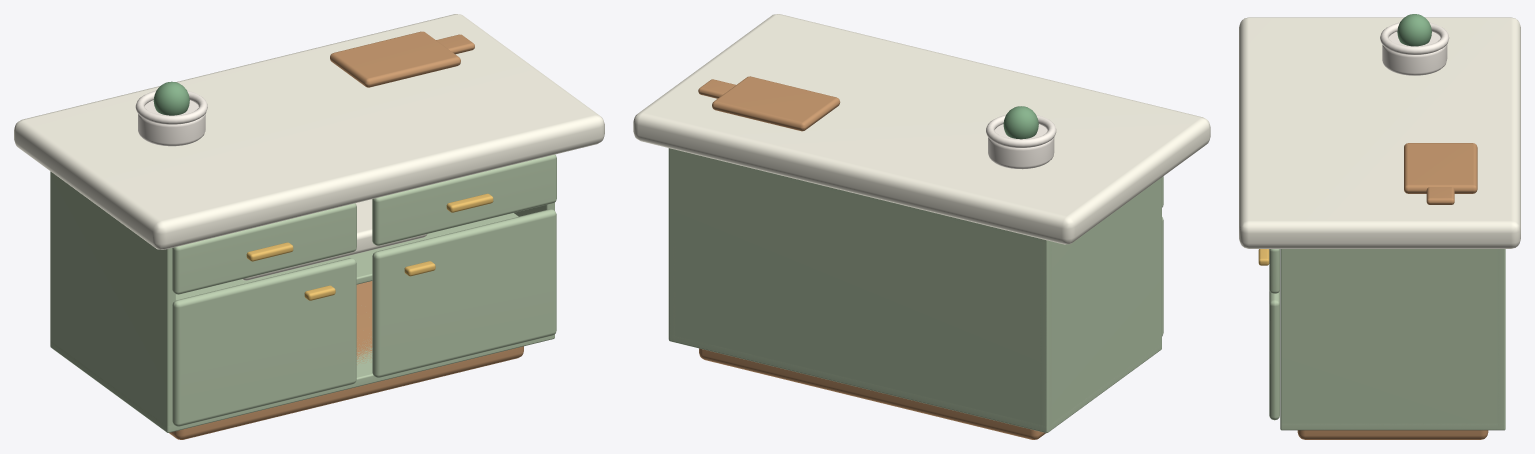
The model's file is kitchenIsland.glb.
3 renders of one model, left to right at view 1: azimuth 30°, elevation 25°; view 2: azimuth 150°, elevation 25°; view 3: azimuth 270°, elevation 25°, orthographic. The views are drawn at different scales.
Parts seen in each view (by area): view 1: Thick stone worktop, Island cupboard door.001, Island cupboard door, Storage inner side, Island drawer.001, Island drawer, Island recessed plinth, Chopping board, Storage inner floor, Storage interior shelf, Cream countertop bowl, Stored folded linen (+2 smaller); view 2: Storage inner back, Thick stone worktop, Storage inner side, Chopping board, Island recessed plinth, Storage inner floor, Cream countertop bowl, Bowl rim, Green apple; view 3: Thick stone worktop, Storage inner side.001, Chopping board, Island recessed plinth, Cream countertop bowl, Storage inner floor, Storage inner back, Island cupboard door.001, Bowl rim, Green apple, Board handle, Island drawer.001.
Boxes of the visible parts, left/top/right/bottom form: Thick stone worktop: left=14, top=14, right=604, bottom=249; Island cupboard door.001: left=372, top=209, right=556, bottom=377; Island cupboard door: left=172, top=258, right=356, bottom=426; Storage inner side: left=50, top=171, right=175, bottom=432; Island drawer.001: left=372, top=154, right=556, bottom=245; Island drawer: left=172, top=203, right=356, bottom=294; Island recessed plinth: left=169, top=281, right=523, bottom=439; Chopping board: left=330, top=31, right=460, bottom=87; Storage inner floor: left=50, top=334, right=554, bottom=432; Storage interior shelf: left=175, top=213, right=518, bottom=300; Cream countertop bowl: left=138, top=100, right=205, bottom=146; Stored folded linen: left=242, top=199, right=427, bottom=280; Storage inner back: left=669, top=148, right=1051, bottom=432; Thick stone worktop: left=633, top=14, right=1210, bottom=244; Storage inner side: left=1040, top=177, right=1161, bottom=432; Chopping board: left=712, top=76, right=840, bottom=131; Island recessed plinth: left=699, top=348, right=1045, bottom=439; Storage inner floor: left=669, top=335, right=1161, bottom=432; Cream countertop bowl: left=988, top=124, right=1054, bottom=169; Bowl rim: left=986, top=115, right=1056, bottom=147; Green apple: left=1003, top=106, right=1038, bottom=139; Thick stone worktop: left=1239, top=17, right=1520, bottom=248; Storage inner side.001: left=1280, top=249, right=1505, bottom=430; Chopping board: left=1404, top=143, right=1477, bottom=193; Island recessed plinth: left=1297, top=430, right=1488, bottom=439; Cream countertop bowl: left=1382, top=31, right=1447, bottom=75; Storage inner floor: left=1280, top=423, right=1505, bottom=429; Storage inner back: left=1497, top=249, right=1505, bottom=430; Island cupboard door.001: left=1269, top=290, right=1279, bottom=420; Bowl rim: left=1380, top=22, right=1449, bottom=54; Green apple: left=1397, top=14, right=1431, bottom=46; Board handle: left=1426, top=187, right=1454, bottom=204; Island drawer.001: left=1269, top=249, right=1279, bottom=293.
Size of the model in its own units: 2.3 by 1.47 by 1.3.
